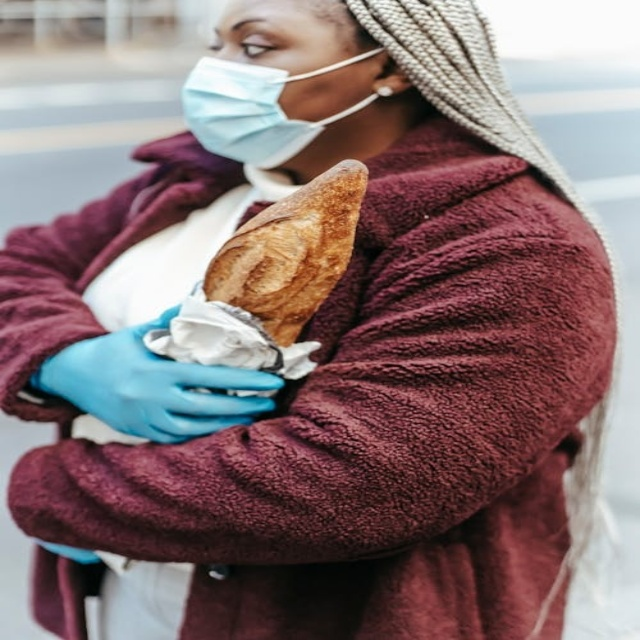Guantes: (34, 306, 286, 447), (35, 538, 102, 565)
Mascara: (180, 48, 373, 168)
Sin_gafas: (240, 41, 276, 57), (206, 41, 224, 53)
